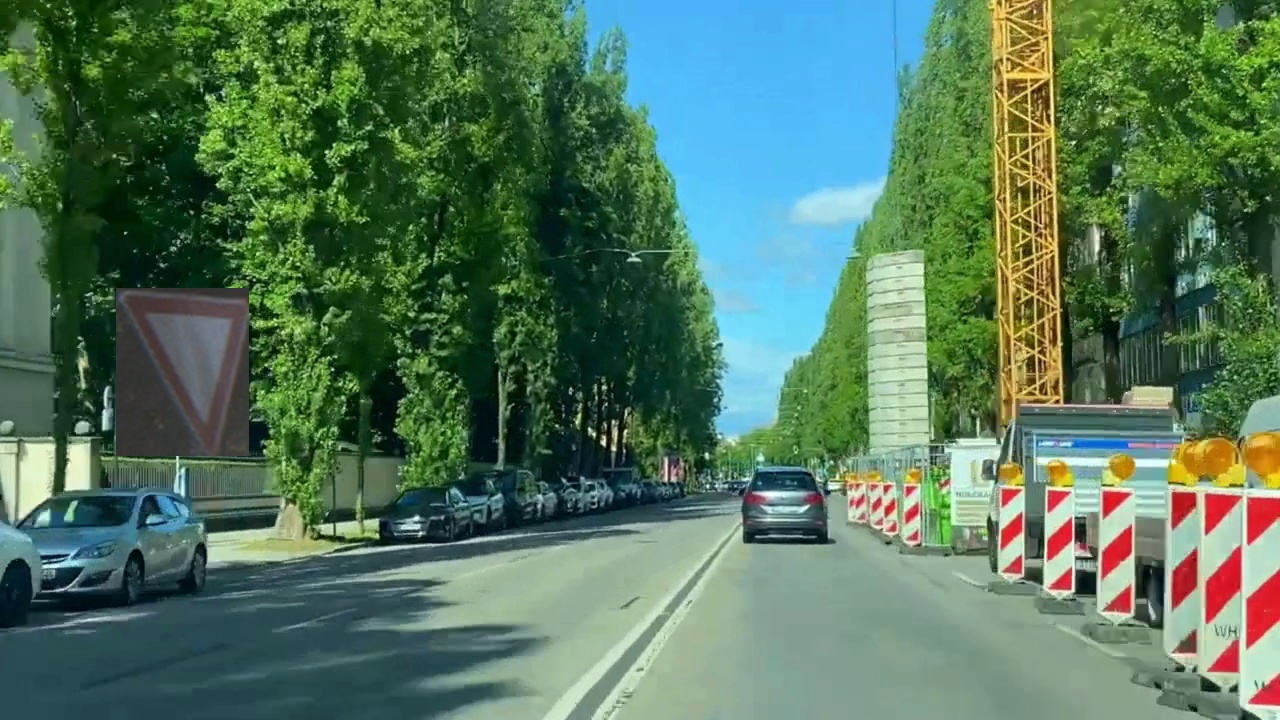Yield: (116, 288, 249, 456)
